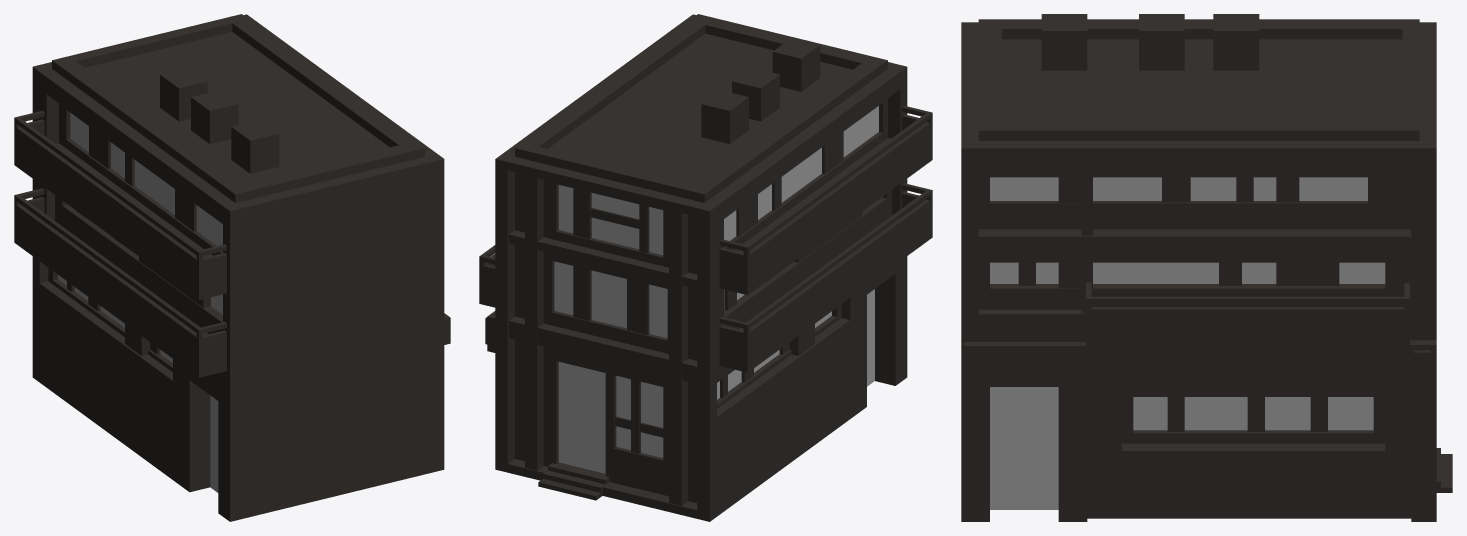
The model's file is Building_Mesh_006.fbx.
3 renders of one model, left to right at view 1: azimuth 30°, elevation 25°; view 2: azimuth 150°, elevation 25°; view 3: azimuth 270°, elevation 25°, orthographic. The views are drawn at different scales.
Parts seen in each view (by area): view 1: Building_006; view 2: Building_006; view 3: Building_006.
Boxes of the visible parts, x1=… form: Building_006: x1=14, y1=14, x2=450, y2=521; Building_006: x1=479, y1=14, x2=932, y2=521; Building_006: x1=961, y1=14, x2=1452, y2=521.
Bounding box in the file's own units: 6.54 × 7.97 × 8.58.
